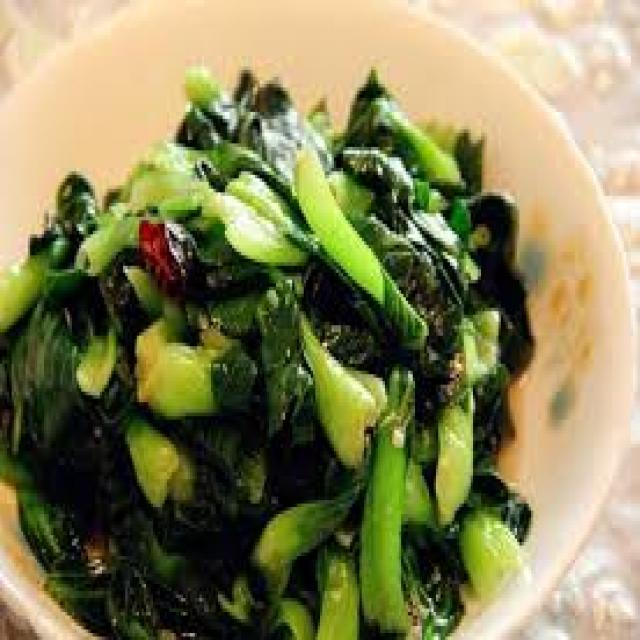organic waste: (290, 133, 424, 343), (216, 444, 366, 626), (116, 133, 297, 262), (14, 297, 130, 486), (111, 493, 230, 637), (0, 167, 97, 339), (452, 182, 534, 378), (130, 301, 257, 423), (357, 346, 408, 630), (348, 77, 482, 185), (299, 297, 373, 476), (81, 164, 176, 280), (234, 63, 329, 178), (185, 412, 278, 510), (211, 262, 297, 364), (16, 468, 90, 574), (452, 500, 520, 602), (102, 248, 162, 346), (181, 70, 260, 143), (431, 384, 471, 518), (139, 210, 202, 294), (40, 563, 114, 633), (0, 342, 32, 503), (258, 364, 316, 451), (309, 535, 357, 637), (468, 454, 529, 532), (445, 297, 496, 385), (473, 360, 513, 469), (401, 437, 438, 528), (257, 584, 313, 637)
